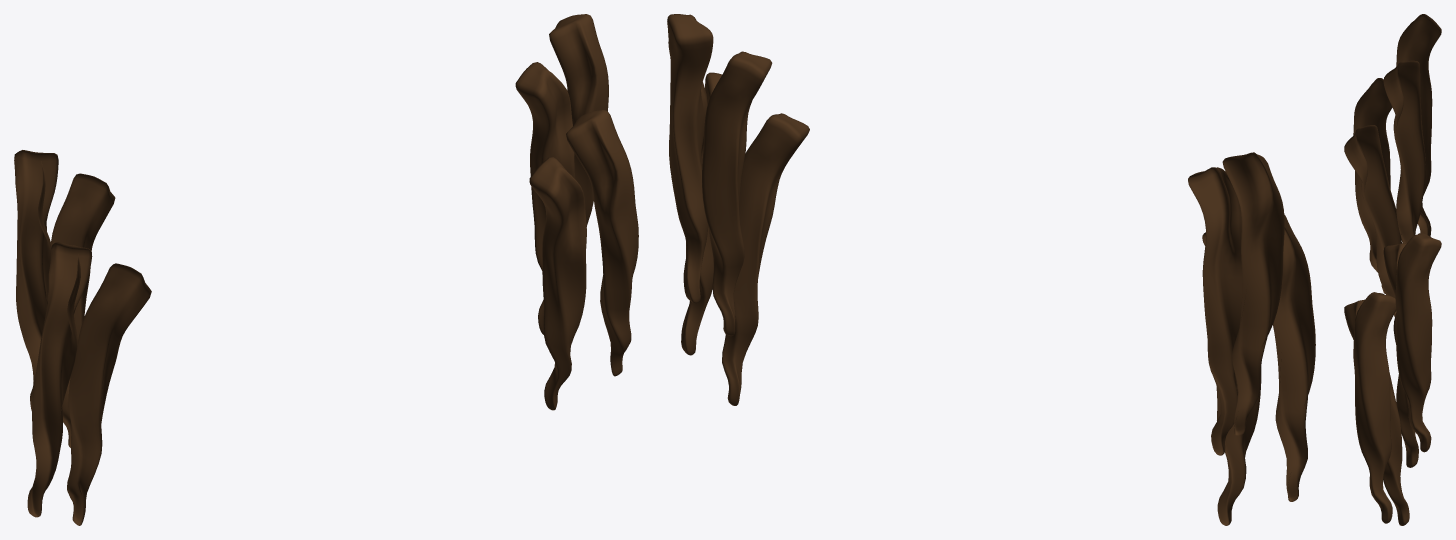
Rendered from frame0.obj.
3 views of the same model, side by side, from view 1: azimuth 30°, elevation 25°; view 2: azimuth 150°, elevation 25°; view 3: azimuth 270°, elevation 25° (orthographic). The views are drawn at different scales.
Visible parts, largest first — view 1: default; view 2: default; view 3: default.
Boxes of the visible parts, left/top/right/bottom form: default: left=14, top=14, right=638, bottom=525; default: left=667, top=14, right=1315, bottom=525; default: left=1344, top=14, right=1441, bottom=525.
Size of the model in its own units: 1.59 by 0.9425 by 0.2731.
